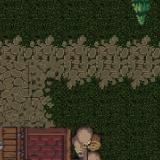Obstacle: (0, 93, 108, 160)
